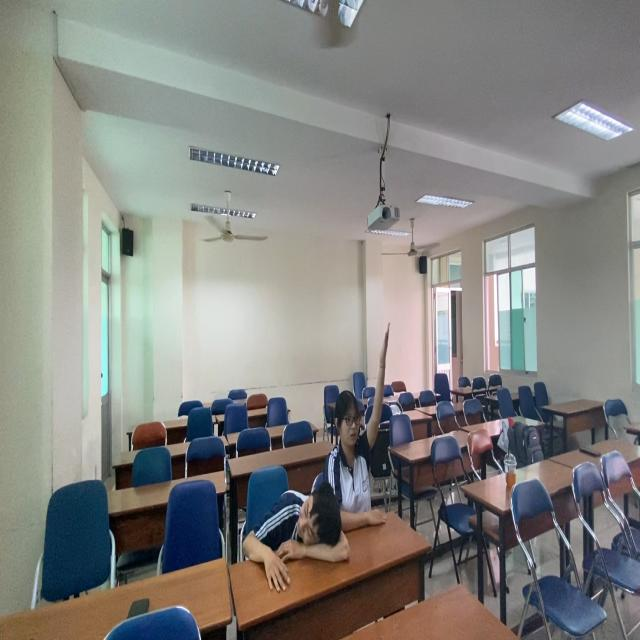raise_hand: (332, 319, 400, 535)
sleep: (240, 478, 357, 599)
